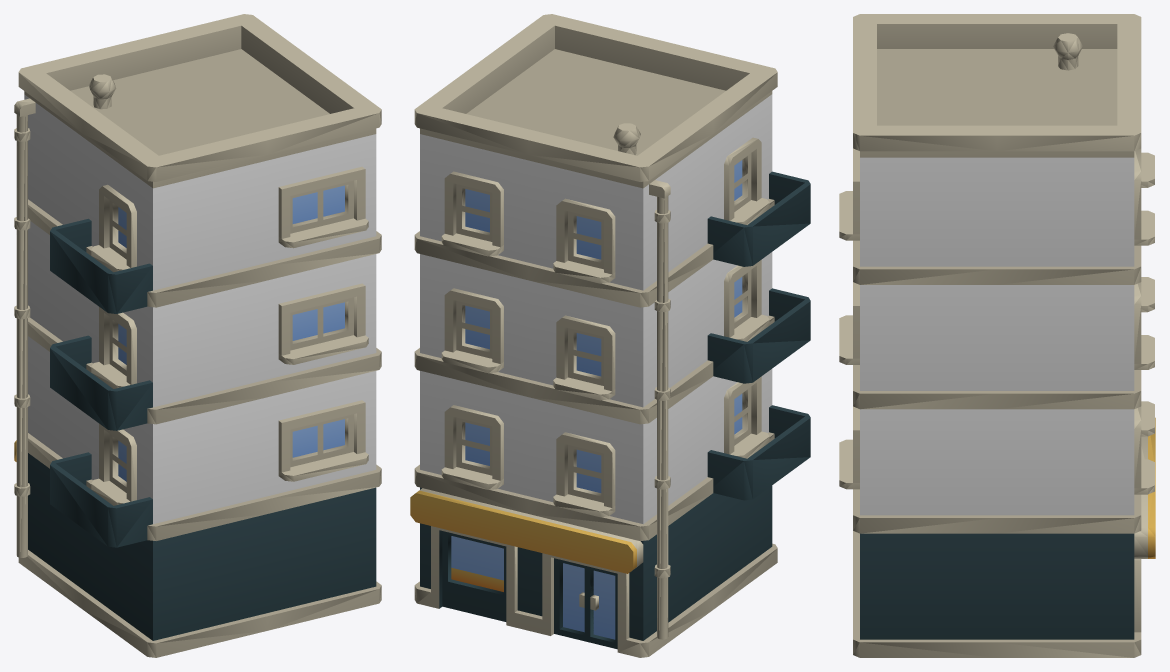
Rendered from building-g.glb.
3 views of the same model, side by side, from view 1: azimuth 30°, elevation 25°; view 2: azimuth 150°, elevation 25°; view 3: azimuth 270°, elevation 25° (orthographic). The views are drawn at different scales.
Parts seen in each view (by area): view 1: building-g; view 2: building-g; view 3: building-g.
Boxes of the visible parts, <box> form: building-g: <box>14,14,381,657</box>; building-g: <box>410,14,810,657</box>; building-g: <box>839,14,1155,657</box>.
Size of the model in its own units: 9.7 by 16.93 by 9.22.
